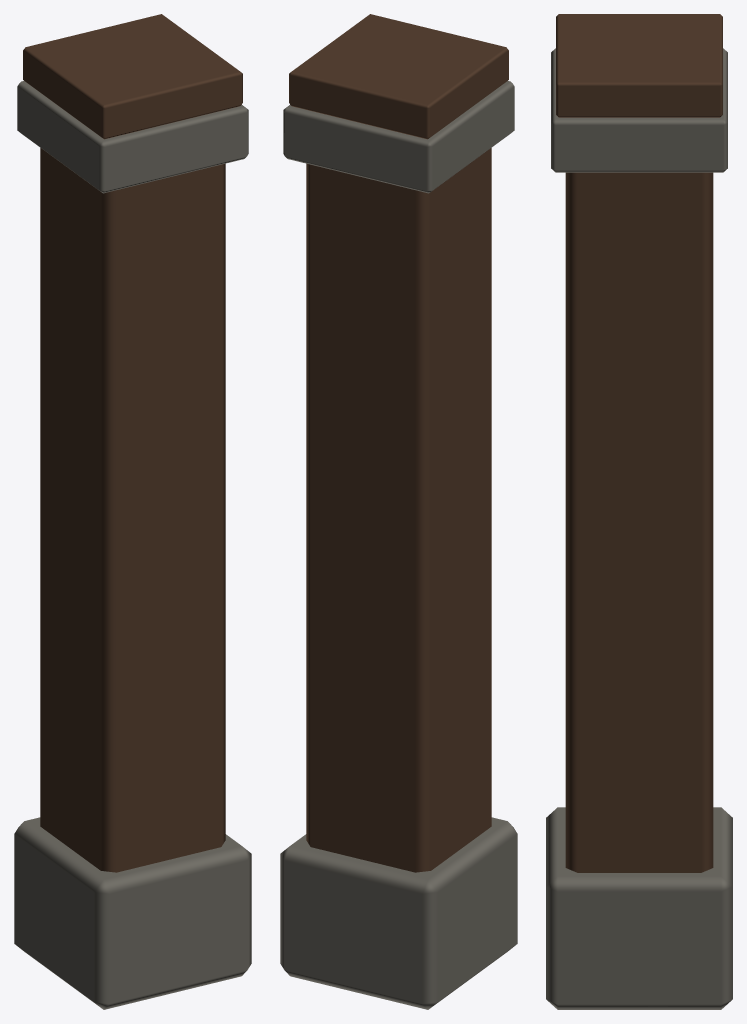
The model's file is village-post-x.1eef9088.glb.
3 renders of one model, left to right at view 1: azimuth 30°, elevation 25°; view 2: azimuth 150°, elevation 25°; view 3: azimuth 270°, elevation 25°, orthographic. The views are drawn at different scales.
Visible parts, largest first — view 1: body; view 2: body; view 3: body.
Part boxes in pixels (x1,y1,x2,y2): body: [14, 14, 251, 1009]; body: [280, 14, 517, 1009]; body: [546, 14, 732, 1009].
Size of the model in its own units: 0.38 by 2.08 by 0.38.
